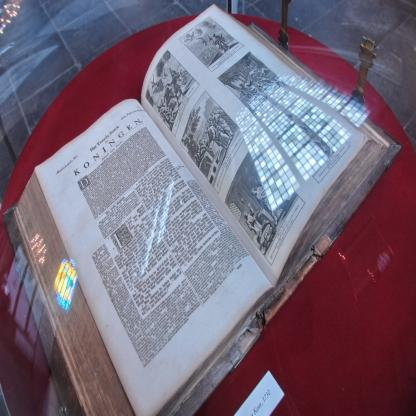book: (0, 6, 402, 416)
